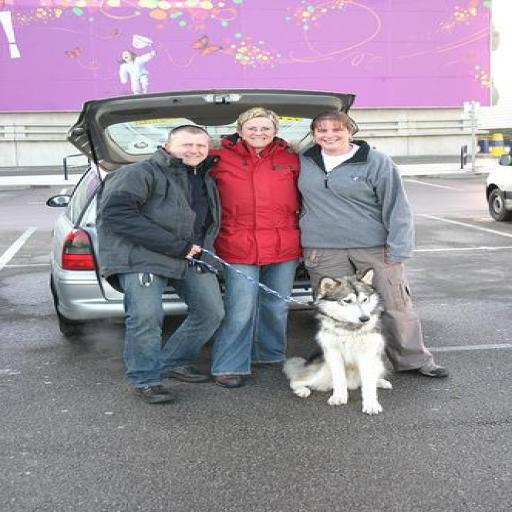dog_face: (312, 268, 388, 332)
